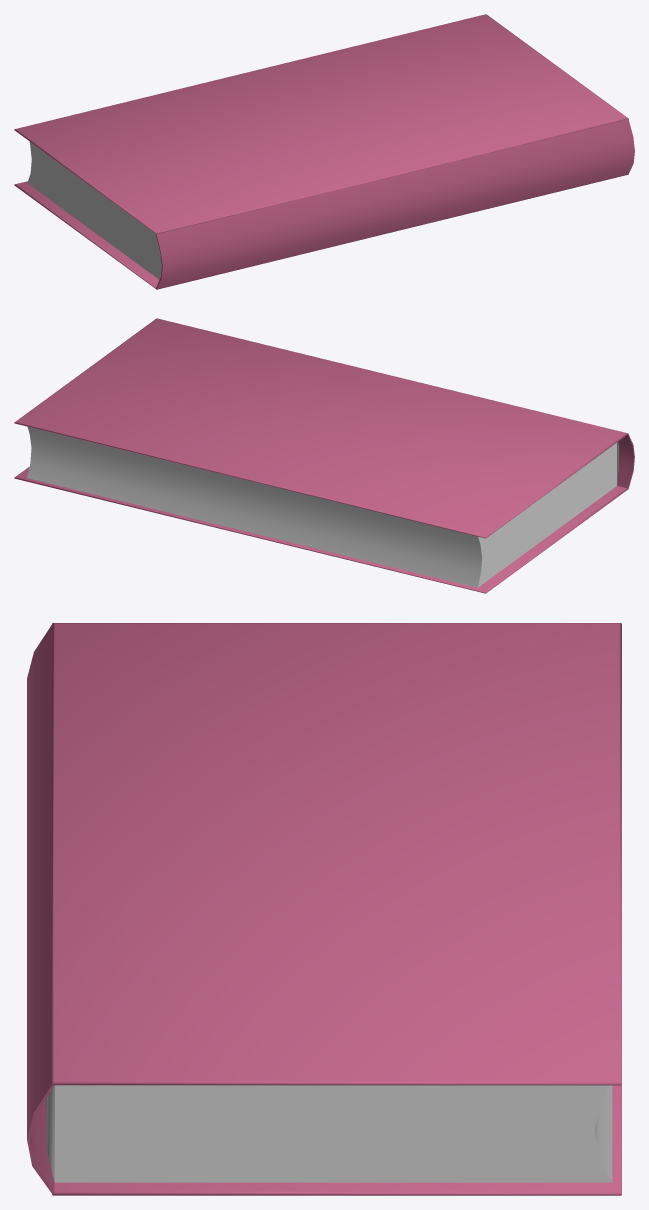
File: libro_rojo.glb
The picture shows the model from 3 angles, top to bottom: view 1: azimuth 30°, elevation 25°; view 2: azimuth 150°, elevation 25°; view 3: azimuth 270°, elevation 25°; orthographic projection. The views are drawn at different scales.
Parts seen in each view (by area): view 1: libro_rojo; view 2: libro_rojo; view 3: libro_rojo.
Boxes of the visible parts, <box> form: libro_rojo: <box>14,14,634,289</box>; libro_rojo: <box>14,318,634,593</box>; libro_rojo: <box>27,623,621,1195</box>.
Bounding box in the file's own units: 33 × 3.8 × 18.
